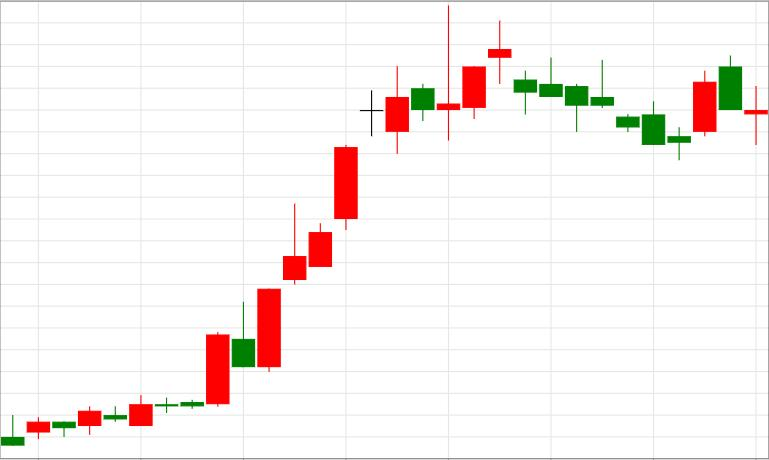shooting_star_fall: (129, 203, 306, 426)
